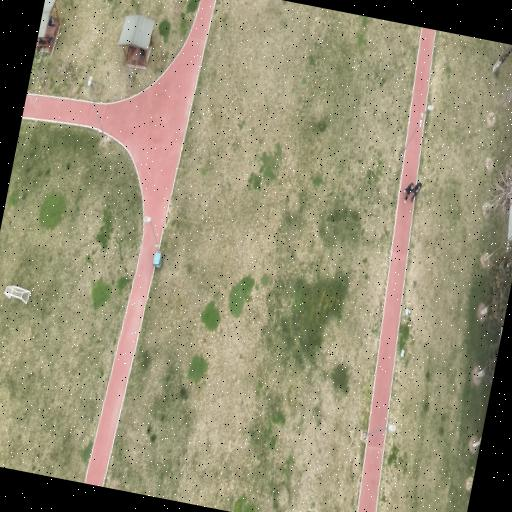person: (410, 183, 421, 202), (403, 182, 413, 202)
